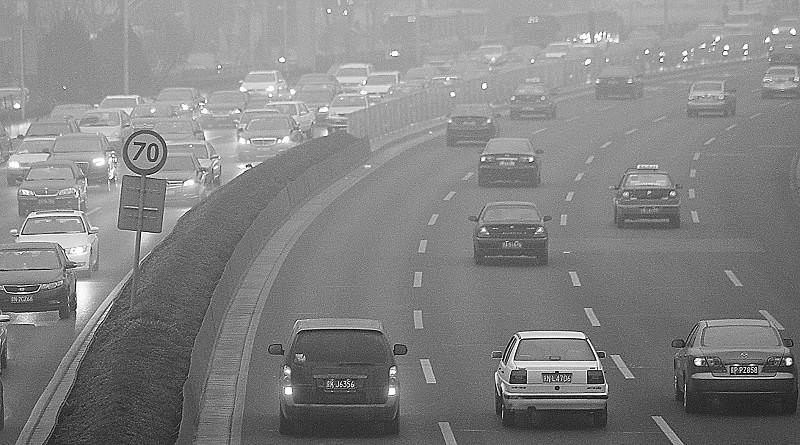car: (268, 318, 408, 435), (671, 318, 798, 413), (491, 330, 609, 426), (10, 209, 100, 278), (1, 242, 80, 318), (468, 201, 553, 265), (610, 165, 682, 228), (42, 131, 117, 186), (135, 152, 208, 207), (16, 161, 88, 216), (477, 136, 544, 187), (17, 114, 82, 162), (237, 117, 306, 161), (155, 140, 221, 184), (5, 138, 64, 186), (74, 108, 130, 158), (92, 94, 145, 139), (446, 103, 501, 146), (318, 94, 375, 135), (149, 87, 208, 126), (149, 120, 207, 157), (289, 72, 345, 110), (288, 82, 341, 121), (263, 102, 316, 140), (198, 90, 249, 128), (510, 78, 557, 119), (686, 80, 736, 117), (127, 104, 175, 142), (239, 70, 289, 106), (232, 108, 283, 143), (333, 63, 376, 101), (46, 103, 94, 137), (595, 67, 644, 100), (358, 71, 402, 104), (762, 66, 800, 98), (400, 68, 436, 95), (471, 44, 509, 66), (504, 45, 543, 66), (543, 42, 573, 62), (771, 18, 800, 37)
